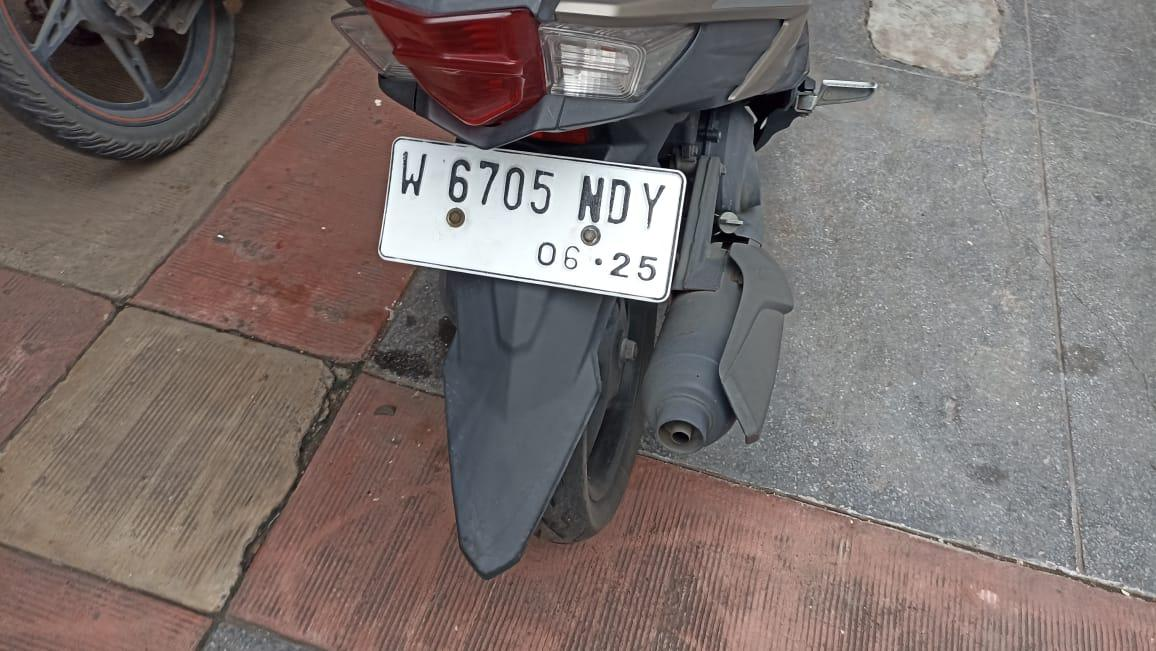plat: (379, 138, 686, 303)
